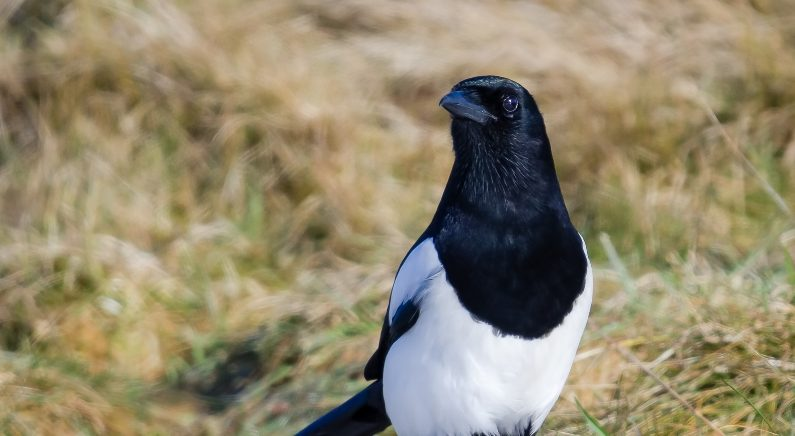magpie: (304, 52, 593, 431)
